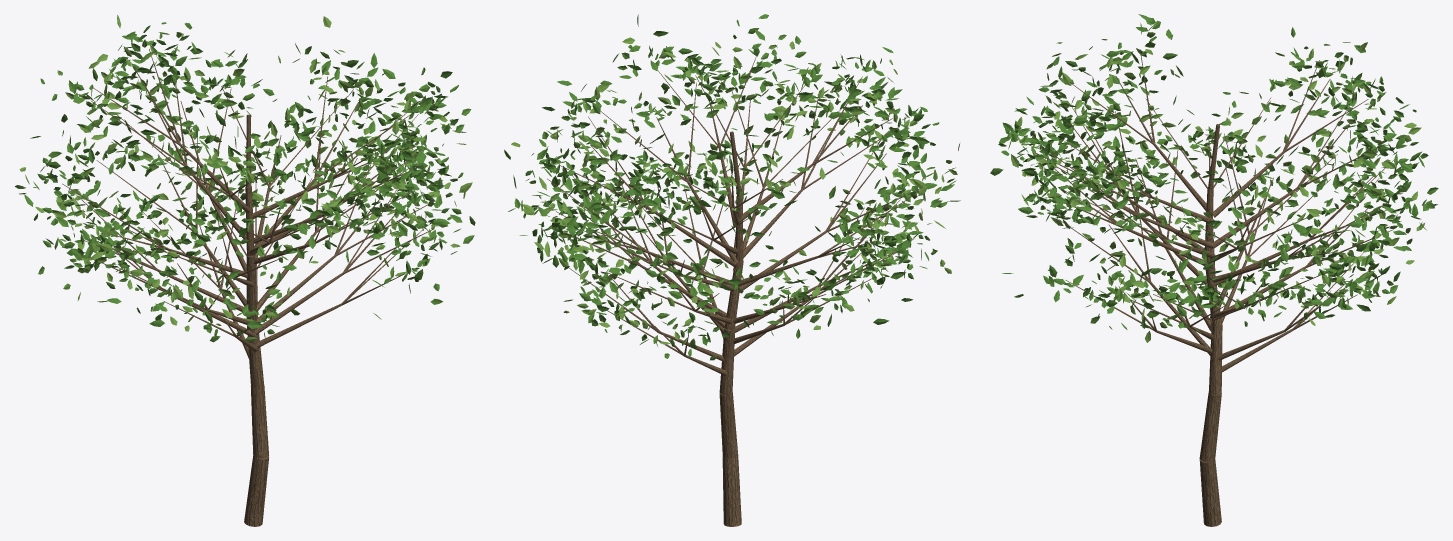
Rendered from broadleaf_1.glb.
3 renders of one model, left to right at view 1: azimuth 30°, elevation 25°; view 2: azimuth 150°, elevation 25°; view 3: azimuth 270°, elevation 25°, orthographic. The views are drawn at different scales.
Visible parts, largest first — view 1: broadleaf_1; view 2: broadleaf_1; view 3: broadleaf_1.
Boxes of the visible parts, x1,y1,x2,y2 form: broadleaf_1: [15, 15, 475, 526]; broadleaf_1: [504, 14, 960, 526]; broadleaf_1: [990, 14, 1438, 526].
Bounding box in the file's own units: 10.05 × 10.89 × 9.75.
Materials: 3 (1 with a texture image).
